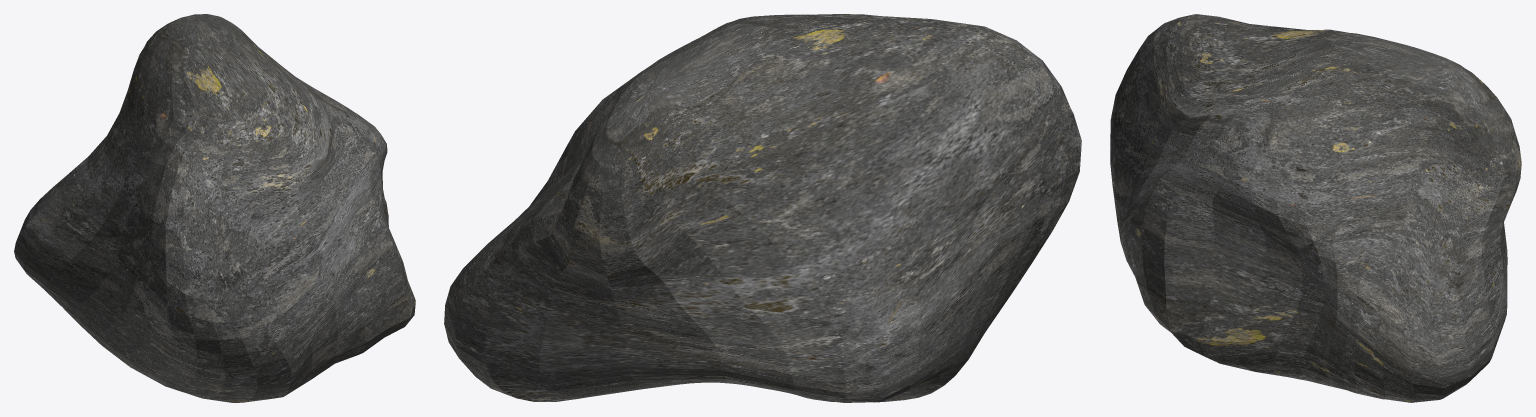
The model's file is MediumAsteroid1.fbx.
3 renders of one model, left to right at view 1: azimuth 30°, elevation 25°; view 2: azimuth 150°, elevation 25°; view 3: azimuth 270°, elevation 25°, orthographic. The views are drawn at different scales.
Parts seen in each view (by area): view 1: Sphere.001; view 2: Sphere.001; view 3: Sphere.001.
Part boxes in pixels (box(x1,y1,x2,y2)): Sphere.001: box(14, 14, 415, 402); Sphere.001: box(444, 14, 1081, 402); Sphere.001: box(1110, 14, 1521, 402).
Bounding box in the file's own units: 54.8 × 44.22 × 53.69.
Materials: 1 (1 with a texture image).
